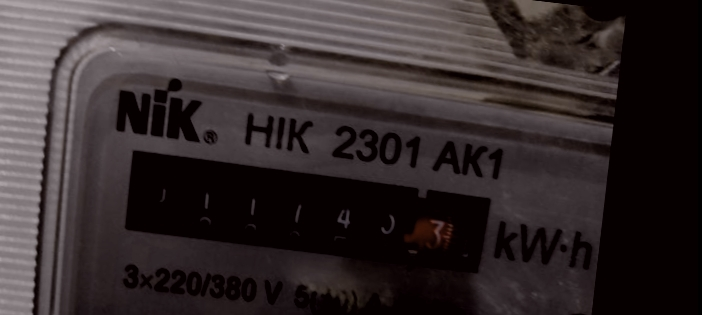0: (146, 167, 172, 208), (195, 172, 218, 215)
1: (242, 178, 263, 221)
3: (376, 197, 400, 242), (422, 215, 447, 255)
4: (331, 192, 356, 234)
7: (284, 183, 312, 230)
screen: (102, 136, 500, 286)
